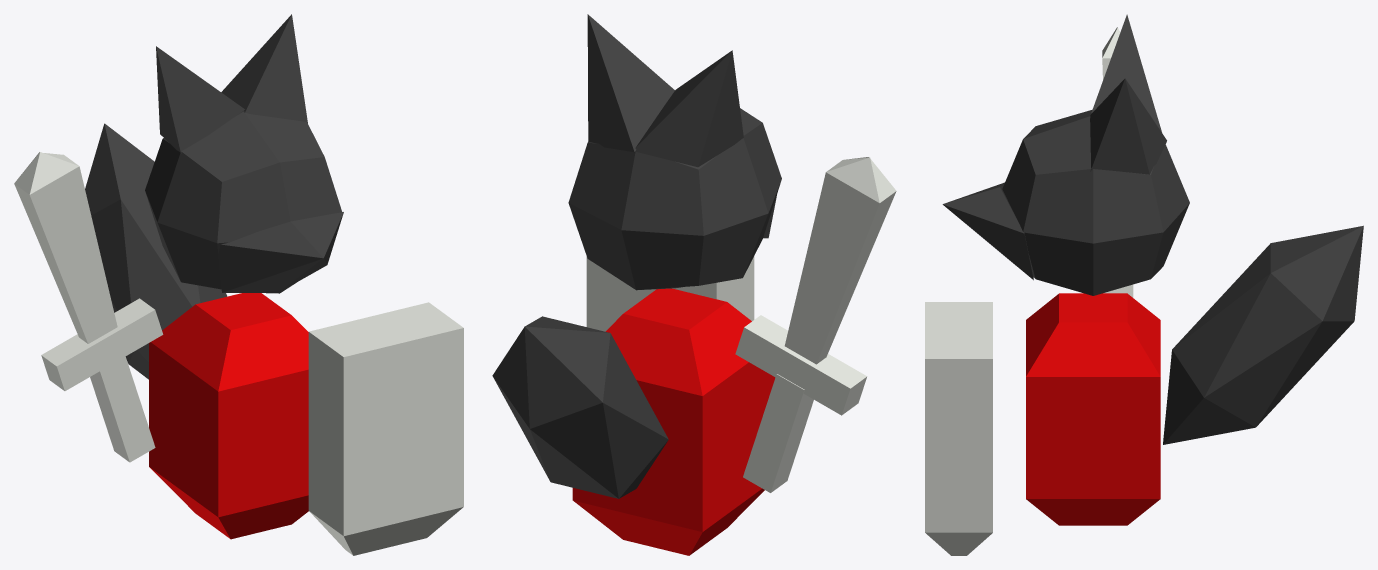
The model's file is Enemy_Fox_template.fbx.
The picture shows the model from 3 angles, left to right: view 1: azimuth 30°, elevation 25°; view 2: azimuth 150°, elevation 25°; view 3: azimuth 270°, elevation 25°; orthographic projection. The views are drawn at different scales.
Visible parts, largest first — view 1: Cube.002, Cube, Cube.001, Cube.004, Icosphere, Cone, Cone.001, Cone.002; view 2: Cube, Cube.001, Cube.004, Icosphere, Cone.002, Cone.001, Cube.002; view 3: Cube, Icosphere, Cube.001, Cube.002, Cone.001, Cone, Cone.002, Cube.004.
Boxes of the visible parts, <box> form: Cube.002: <box>308,302,463,555</box>; Cube: <box>149,293,308,539</box>; Cube.001: <box>145,111,341,293</box>; Cube.004: <box>14,152,163,462</box>; Icosphere: <box>85,123,227,379</box>; Cone: <box>218,212,343,293</box>; Cone.001: <box>221,14,307,123</box>; Cone.002: <box>156,46,244,153</box>; Cube: <box>572,288,775,555</box>; Cube.001: <box>568,108,781,290</box>; Cube.004: <box>735,157,896,492</box>; Icosphere: <box>492,316,668,498</box>; Cone.002: <box>635,50,743,167</box>; Cone.001: <box>587,14,674,152</box>; Cube.002: <box>586,256,754,331</box>; Cube: <box>1026,293,1160,525</box>; Icosphere: <box>1163,225,1363,444</box>; Cube.001: <box>1002,110,1189,295</box>; Cube.002: <box>925,302,992,555</box>; Cone.001: <box>1090,78,1166,174</box>; Cone: <box>942,182,1033,280</box>; Cone.002: <box>1091,14,1161,132</box>; Cube.004: <box>1102,27,1133,297</box>.
Bounding box in the file's own units: 571 × 759 × 651.
